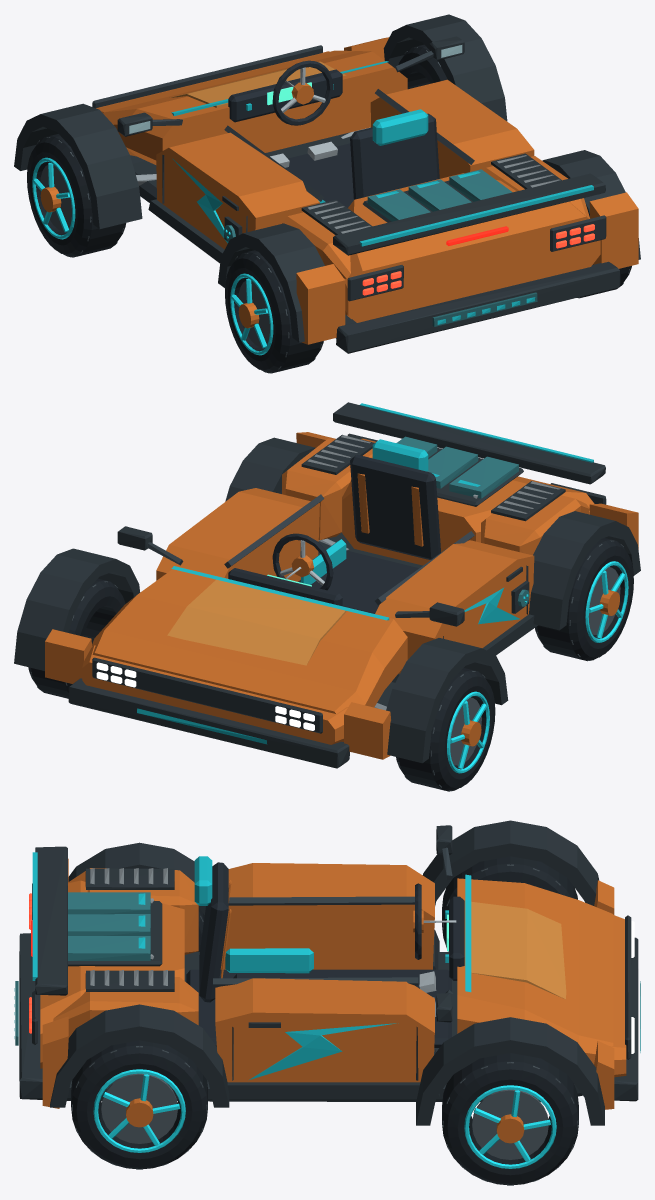
File: bolt_lod0.glb
The picture shows the model from 3 angles, top to bottom: view 1: azimuth 30°, elevation 25°; view 2: azimuth 150°, elevation 25°; view 3: azimuth 270°, elevation 25°; orthographic projection. The views are drawn at different scales.
Visible parts, largest first — view 1: body_mesh, wheel_rl, wheel_fl, steering_wheel, wheel_fr, light_tail_mesh; view 2: body_mesh, wheel_rl, wheel_fl, wheel_fr, steering_wheel, light_head_mesh; view 3: body_mesh, wheel_fr, wheel_rr, wheel_fl, steering_wheel.
Part boxes in pixels (x1,y1,x2,y2): body_mesh: [14, 14, 640, 353]; wheel_rl: [225, 250, 323, 373]; wheel_fl: [27, 134, 126, 257]; steering_wheel: [272, 60, 333, 125]; wheel_fr: [398, 44, 447, 89]; light_tail_mesh: [362, 224, 594, 295]; body_mesh: [14, 402, 640, 768]; wheel_rl: [535, 538, 633, 661]; wheel_fl: [396, 668, 495, 791]; wheel_fr: [28, 578, 125, 698]; steering_wheel: [272, 533, 333, 590]; light_head_mesh: [96, 662, 314, 730]; body_mesh: [14, 820, 640, 1125]; wheel_fr: [442, 1053, 578, 1185]; wheel_rr: [71, 1040, 207, 1169]; wheel_fl: [442, 856, 577, 951]; steering_wheel: [413, 883, 423, 959].
Bounding box in the file's own units: 2.31 × 0.98 × 2.65.
